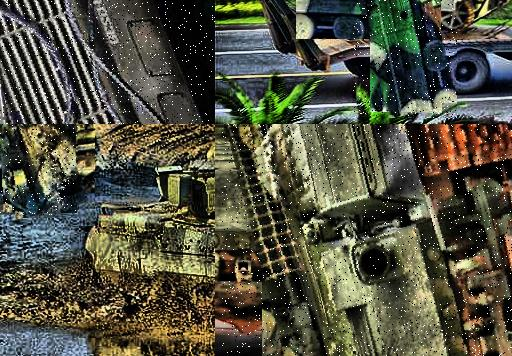tanks: (226, 125, 512, 356), (1, 1, 210, 125), (88, 149, 216, 284), (359, 1, 458, 119), (1, 125, 79, 216)
